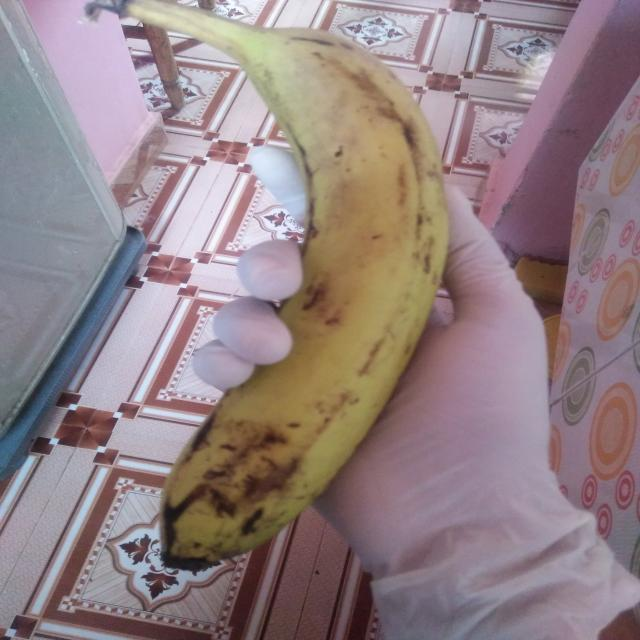glove_hand: (175, 118, 638, 639)
